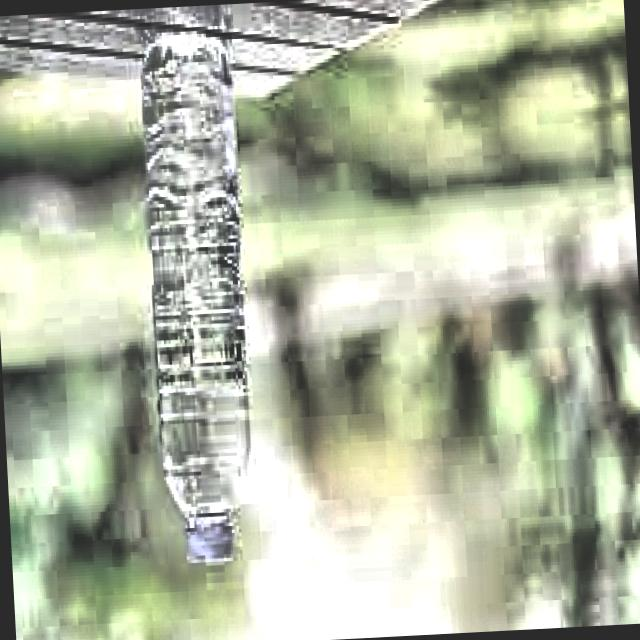plastic bottle: (143, 32, 250, 561)
